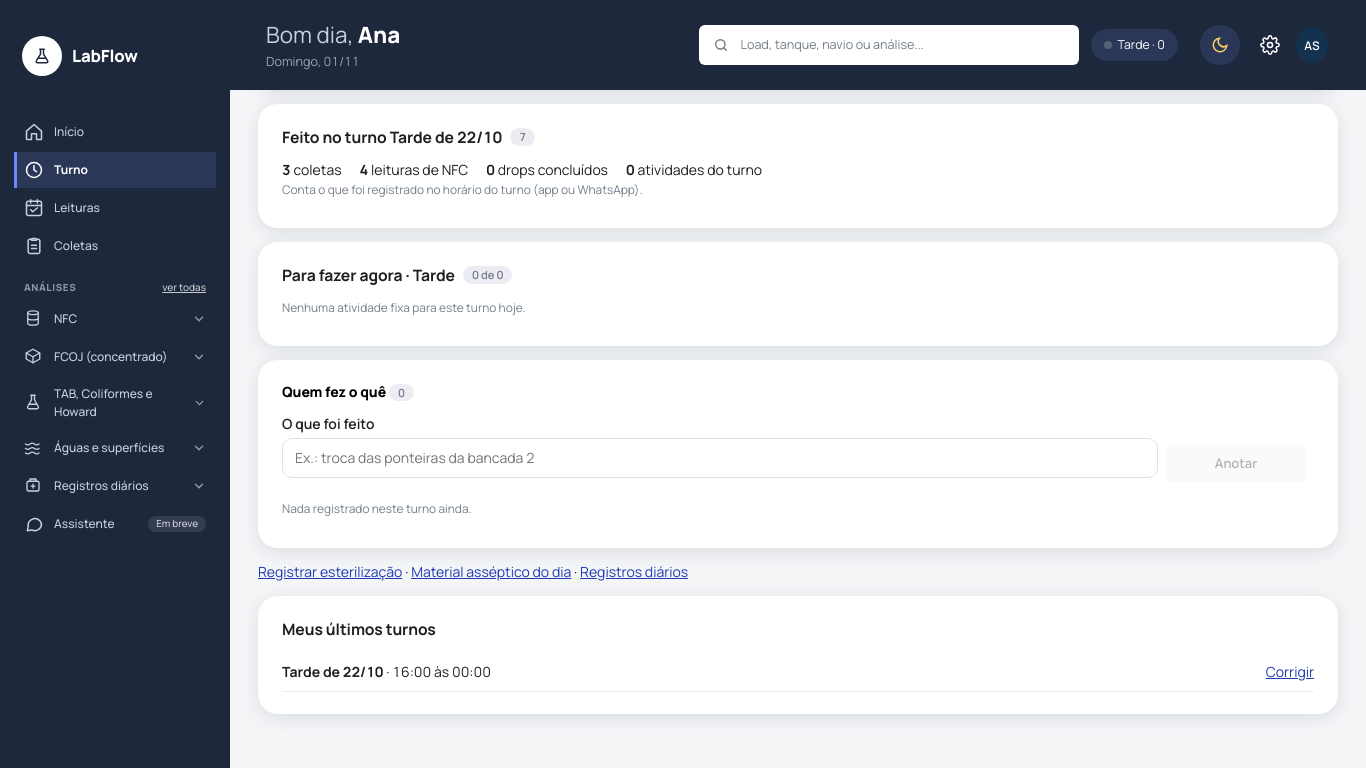
Scenario: Turno: entrar e sair (APP-022) › corrigir o horário pede motivo e mostra o que foi marcado no app
The width and height of the screenshot is (1366, 768).
(page scrolled)
Click the button with aria-label "Corrigir o horário de Tarde de 22/10" at (1290, 672), box x1=1266 y1=656 x2=1314 y2=688
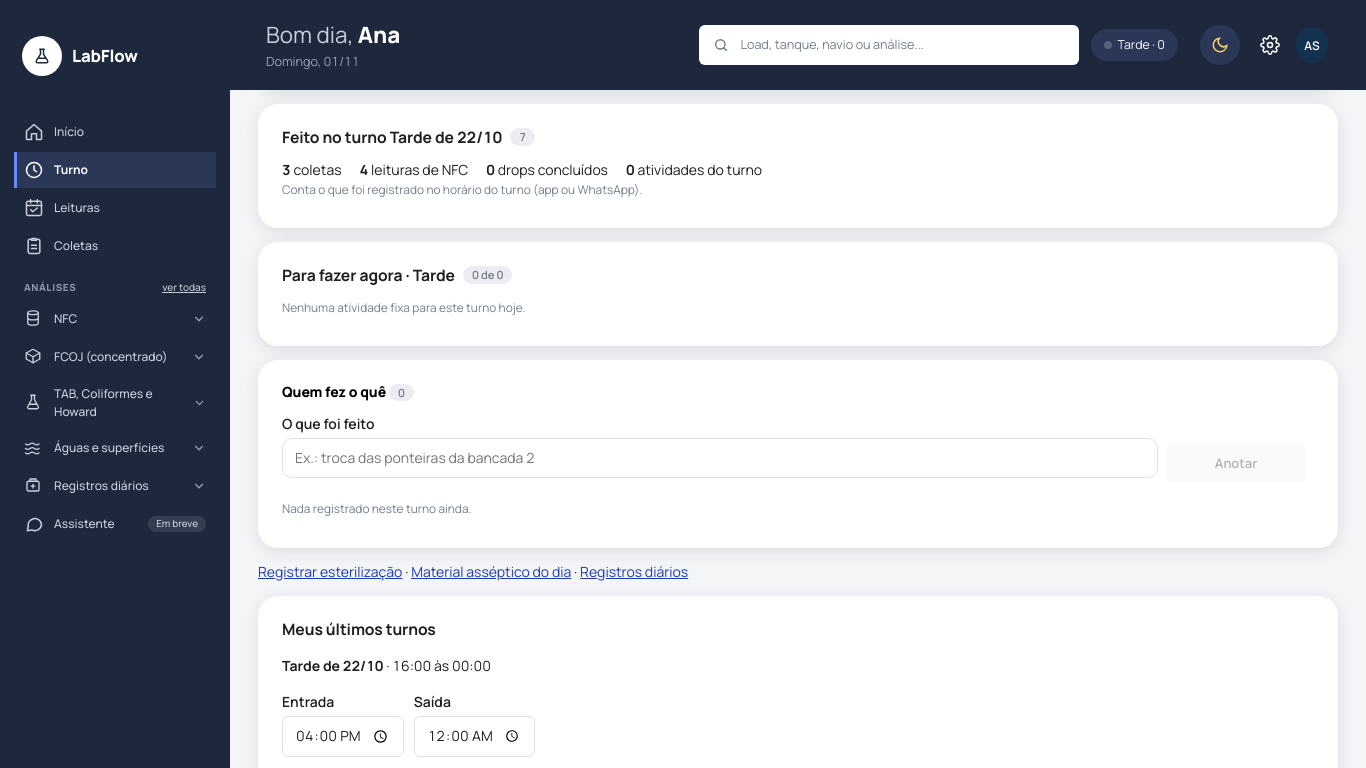
Replace the text in the time field labelled "Entrada" with "15:00" at (343, 736), box x1=282 y1=716 x2=404 y2=756
(page scrolled)
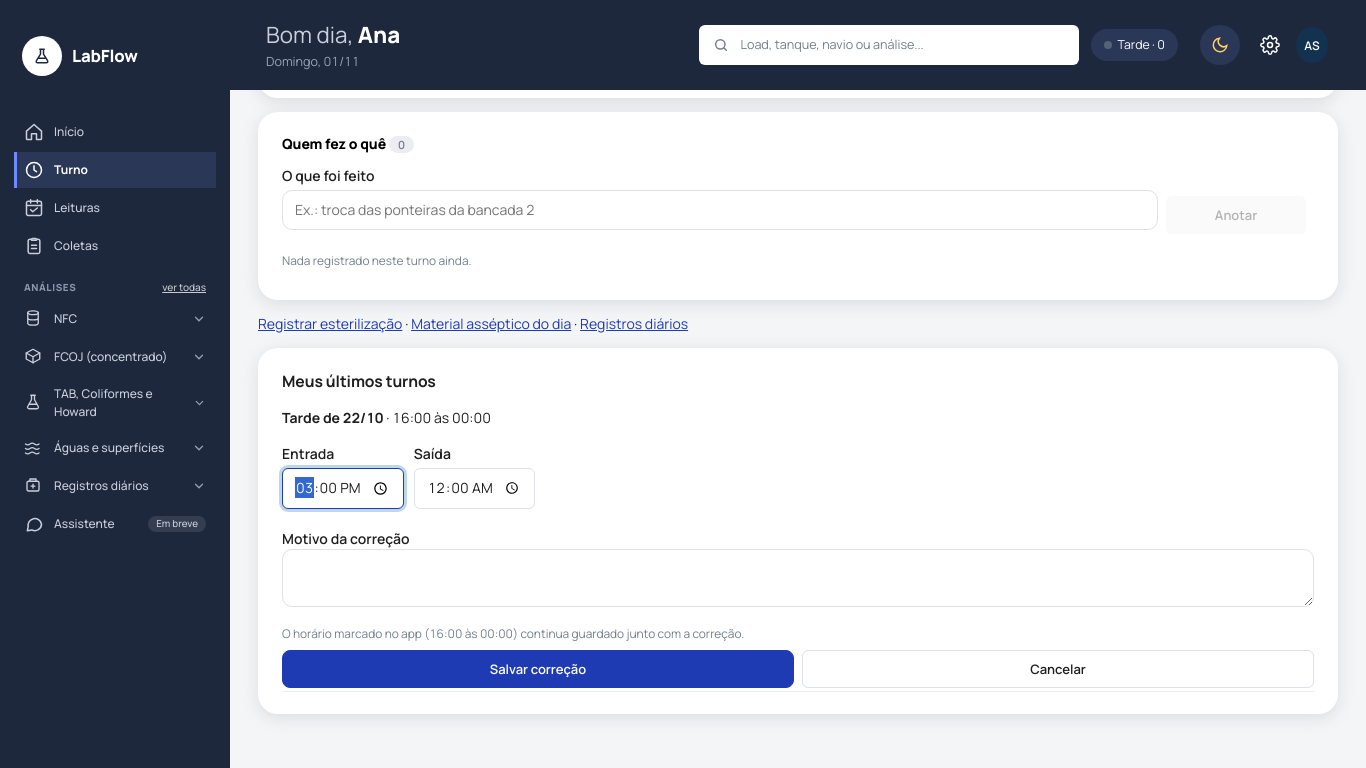
Click the button "Salvar correção" at (538, 669), box x1=282 y1=650 x2=794 y2=688
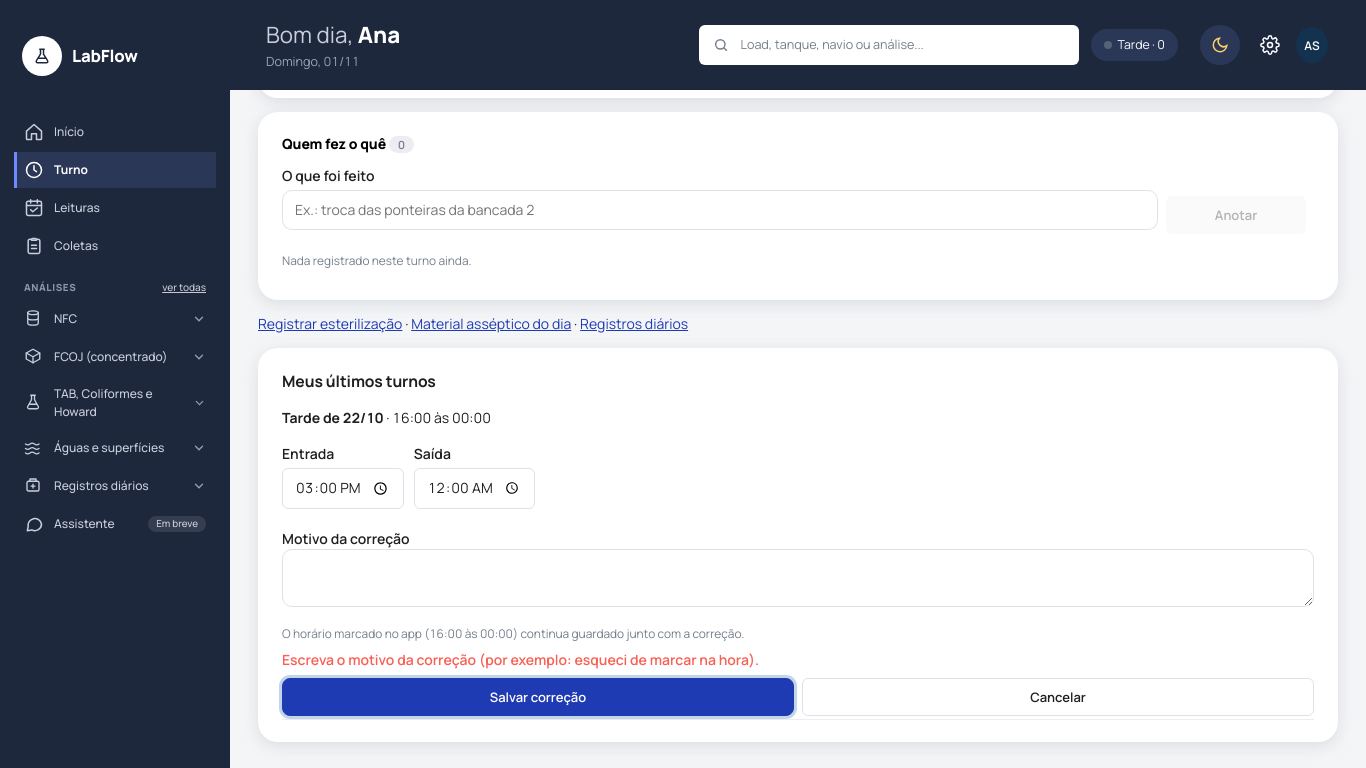
Result: the message shows "Escreva o motivo" at x1=282 y1=650 x2=759 y2=669
Type "Escala das 15h, esqueci de marcar" into the text box labelled "Motivo da correção" at (798, 578), box x1=282 y1=549 x2=1314 y2=607
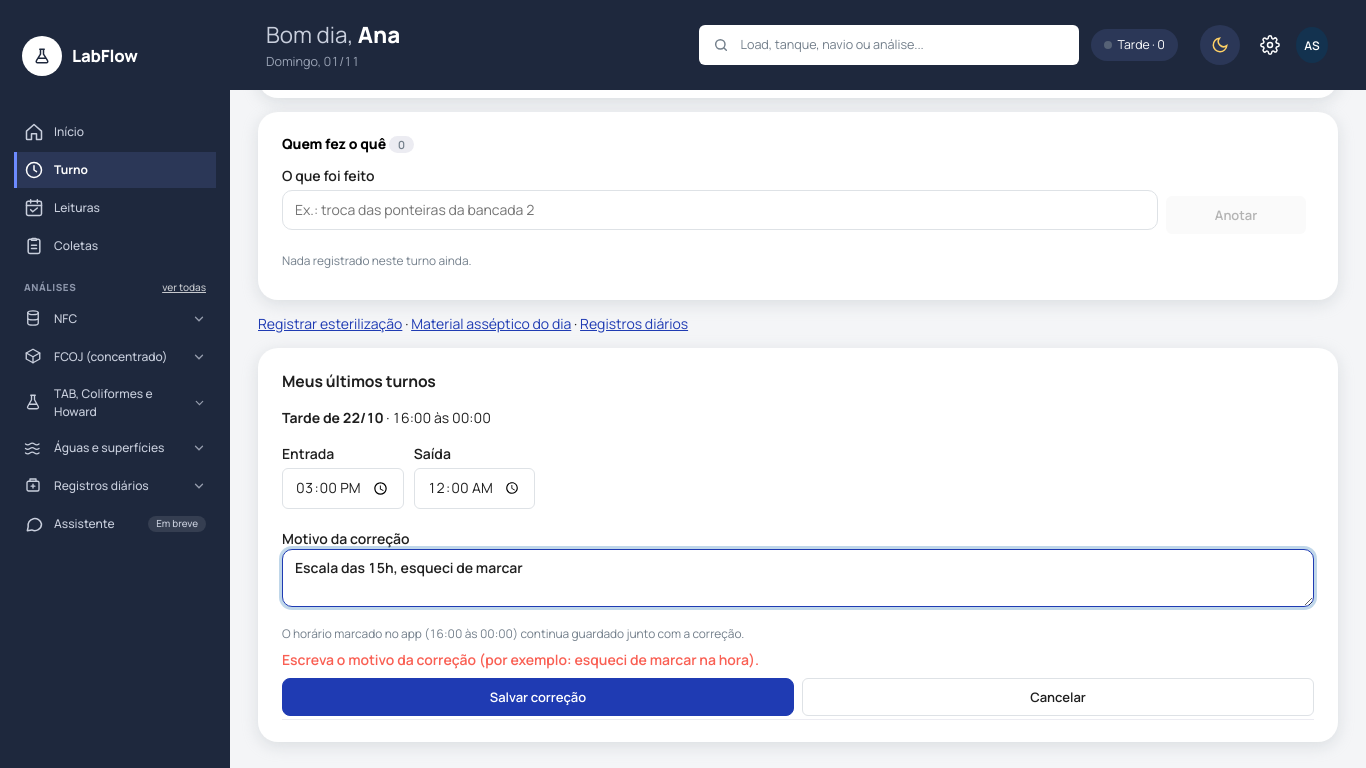
Click the button "Salvar correção" at (538, 697), box x1=282 y1=678 x2=794 y2=716
(page scrolled)
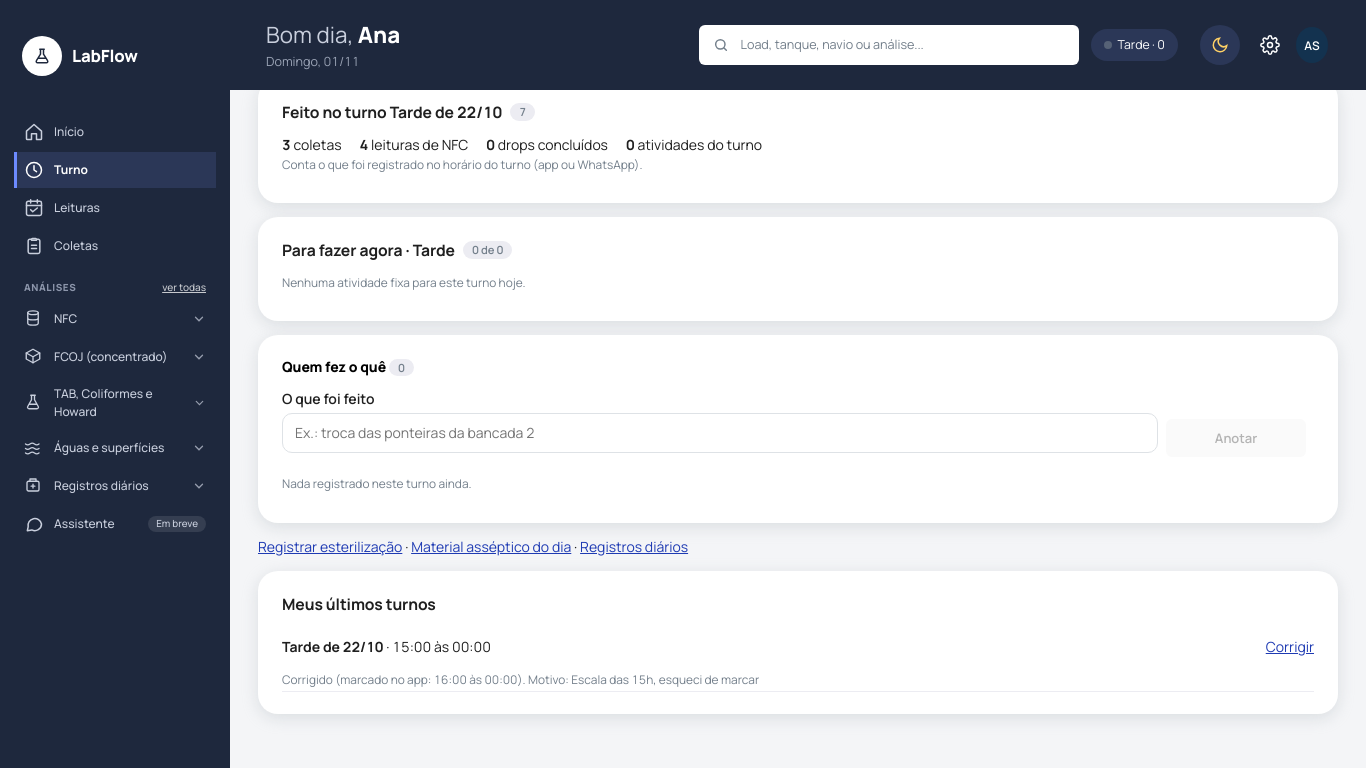
Result: the text "Corrigido (marcado no app: 16:00 às 00:00). Motivo: Escala das 15h" is shown at x1=282 y1=671 x2=759 y2=688
